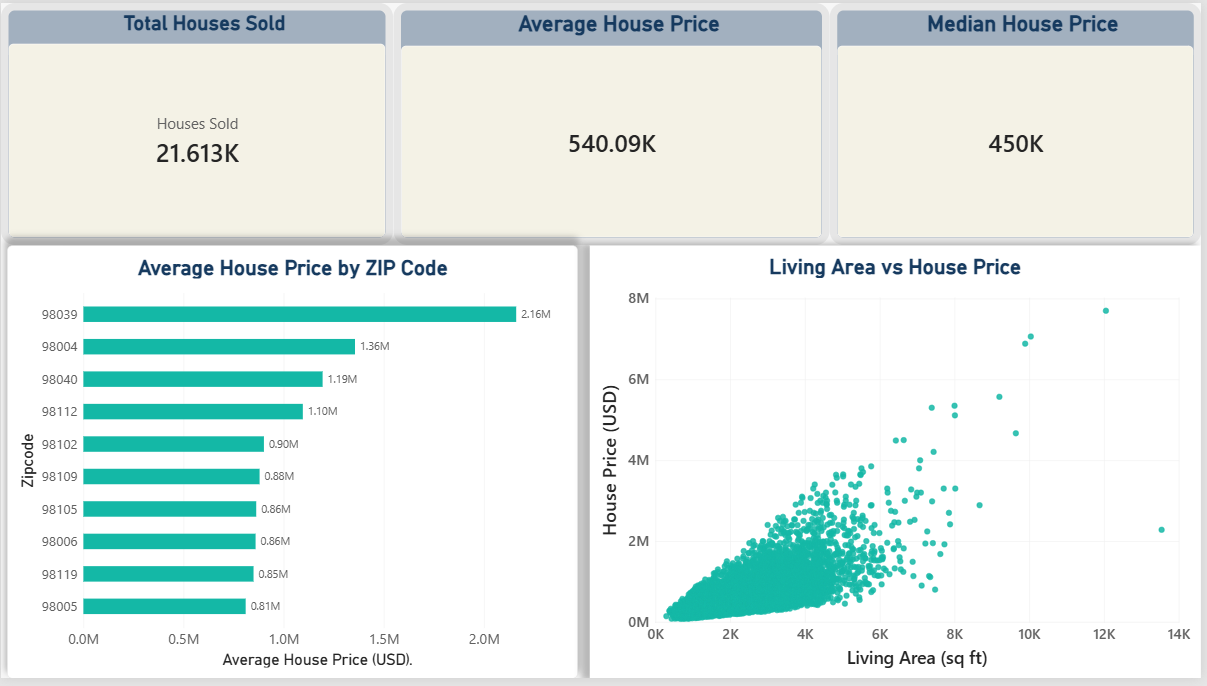

The page's visual inventory and layout, read from the dashboard file:
{"tool":"powerbi","page":{"name":"Market Overview","canvas":[1920,1080],"ordinal":0},"visuals":[{"type":"cardVisual","title":"Total Houses Sold","fields":{"Data":["CountNonNull(kc_house_data_NaN.id)"]},"box":[0,0,627.5,387.5],"z":0},{"type":"cardVisual","title":"Average House Price","fields":{"Data":["Avg(kc_house_data_NaN.price)"]},"box":[628.2,0,698,387],"z":1000},{"type":"cardVisual","title":"Median House Price","fields":{"Data":["Median(kc_house_data_NaN.price)"]},"box":[1326.1,0,594.3,387],"z":2000},{"type":"clusteredBarChart","title":"Average House Price by ZIP Code","fields":{"Category":["kc_house_data_NaN.zipcode"],"Y":["Avg(kc_house_data_NaN.price)"]},"box":[10,387.5,912.5,692.5],"z":3000},{"type":"scatterChart","title":"Living Area vs House Price","fields":{"X":["kc_house_data_NaN.sqft_living"],"Y":["kc_house_data_NaN.price"]},"box":[942.5,387.5,977.5,692.5],"z":4000},{"type":"textbox","box":[100,0,300,87.5],"z":4001}]}

Visuals, with their boxes in screenshot pixels (x1, y1, x2, y2), scaled from the page's 1920x1080 canvas onto the 1207x686 screenshot:
"Total Houses Sold" cardVisual: 0/0/394/246
"Average House Price" cardVisual: 395/0/834/246
"Median House Price" cardVisual: 834/0/1206/246
"Average House Price by ZIP Code" clusteredBarChart: 6/246/580/685
"Living Area vs House Price" scatterChart: 592/246/1206/685
textbox: 63/0/251/56
